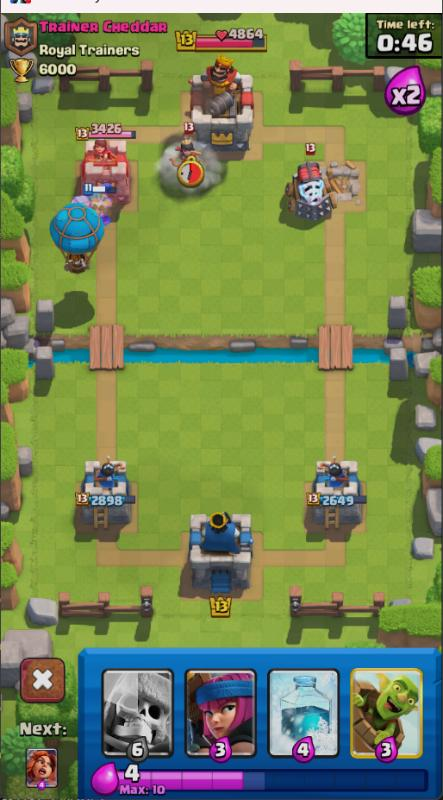zappy: (283, 161, 339, 223)
